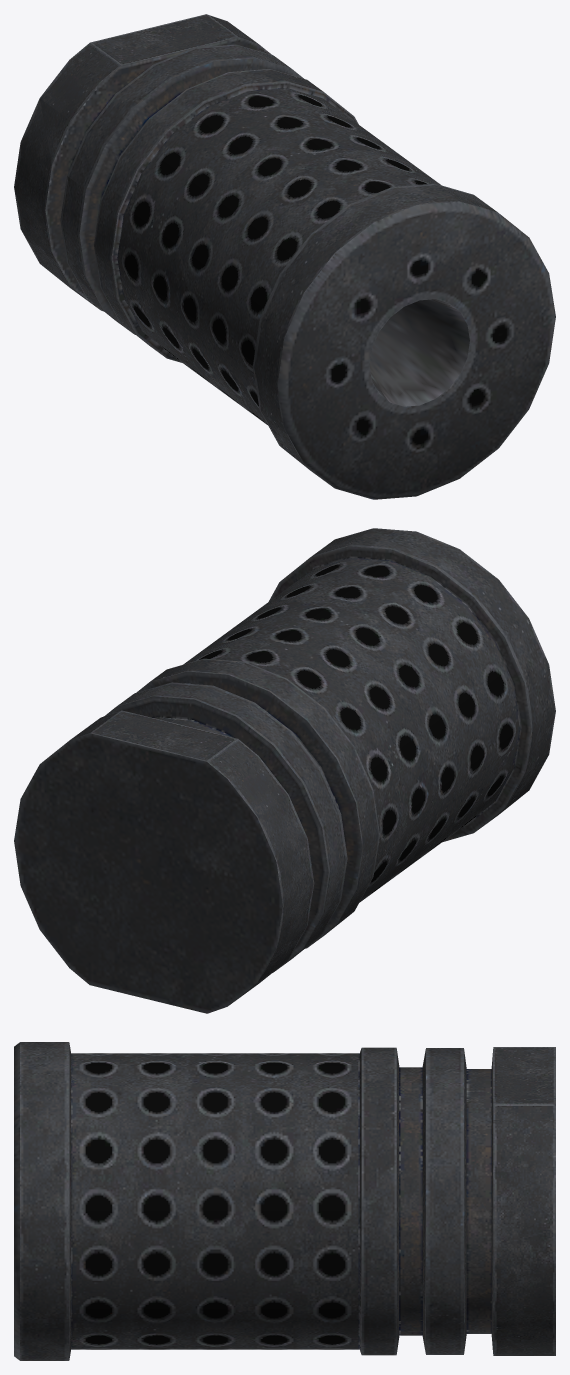
File: SR_Compensator.FBX
The picture shows the model from 3 angles, top to bottom: view 1: azimuth 30°, elevation 25°; view 2: azimuth 150°, elevation 25°; view 3: azimuth 270°, elevation 25°; orthographic projection.
Visible parts, largest first — view 1: SR_Compensator_01; view 2: SR_Compensator_01; view 3: SR_Compensator_01.
Boxes of the visible parts, x1=… form: SR_Compensator_01: x1=14, y1=14, x2=555, y2=499; SR_Compensator_01: x1=14, y1=528, x2=555, y2=1013; SR_Compensator_01: x1=14, y1=1042, x2=555, y2=1360.
Bounding box in the file's own units: 2.7 × 2.7 × 4.55.
